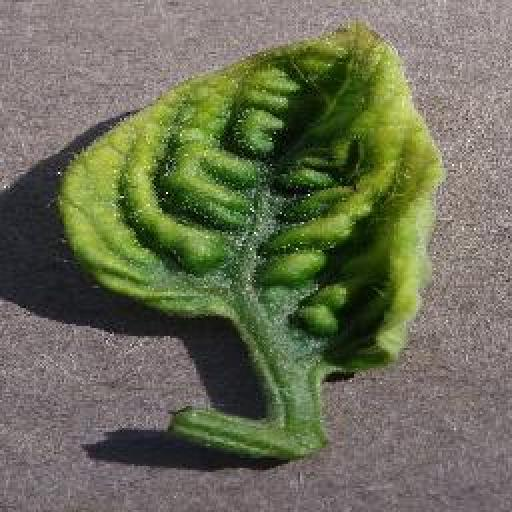disease_tomato: (60, 29, 444, 380)
